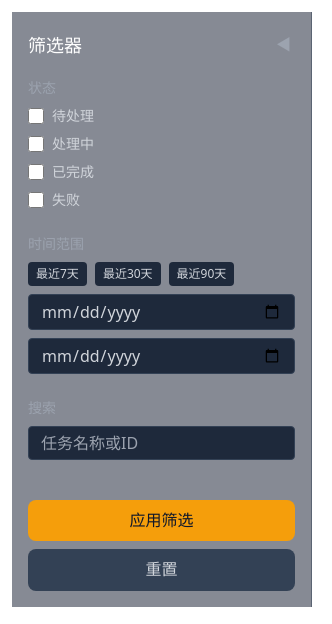
Test: TaskFilters › toggles filter panel
This screenshot has width=332, height=624.
Step 1. Click the button named "折叠筛选器" → (284, 45), box [272,28,295,62]
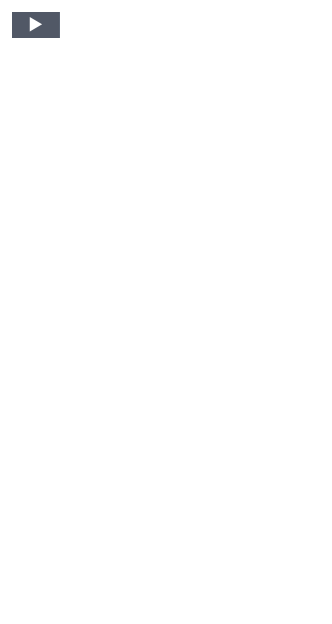
Check: the button named "展开筛选器" is shown, box [12,12,59,38]
